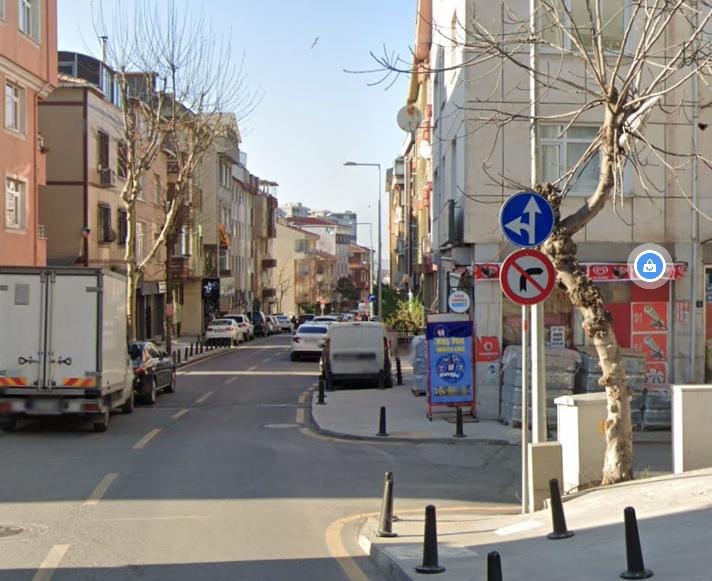rightturnsareforbidden: (501, 251, 555, 299)
